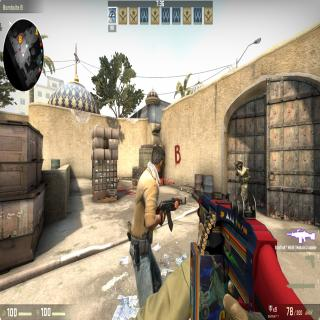CT-Body: (236, 158, 250, 199)
CT-Head: (238, 158, 245, 170)
T-Body: (128, 141, 166, 301)
T-Head: (150, 142, 166, 181)
